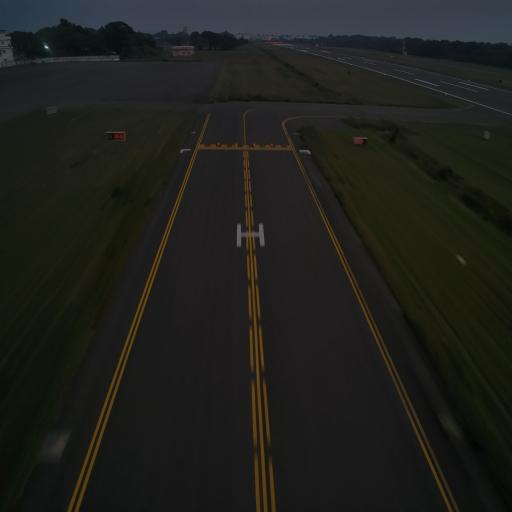on: (234, 140, 238, 150), (217, 140, 220, 148), (252, 140, 255, 147), (270, 140, 273, 147)
